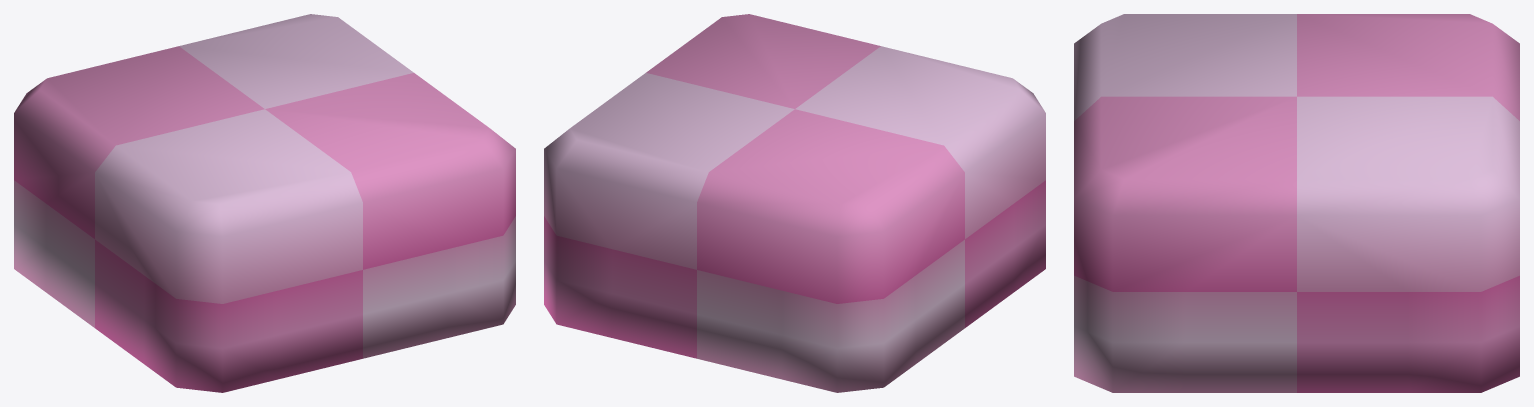
File: cutepack2023pinkcushionblock.fbx
3 views of the same model, side by side, from view 1: azimuth 30°, elevation 25°; view 2: azimuth 150°, elevation 25°; view 3: azimuth 270°, elevation 25° (orthographic). The views are drawn at different scales.
Parts seen in each view (by area): view 1: Cube.085; view 2: Cube.085; view 3: Cube.085.
Part boxes in pixels (x1,y1,x2,y2): Cube.085: (14,14,515,392); Cube.085: (544,14,1045,392); Cube.085: (1074,14,1519,392).
Bounding box in the file's own units: 180 × 90 × 180.
